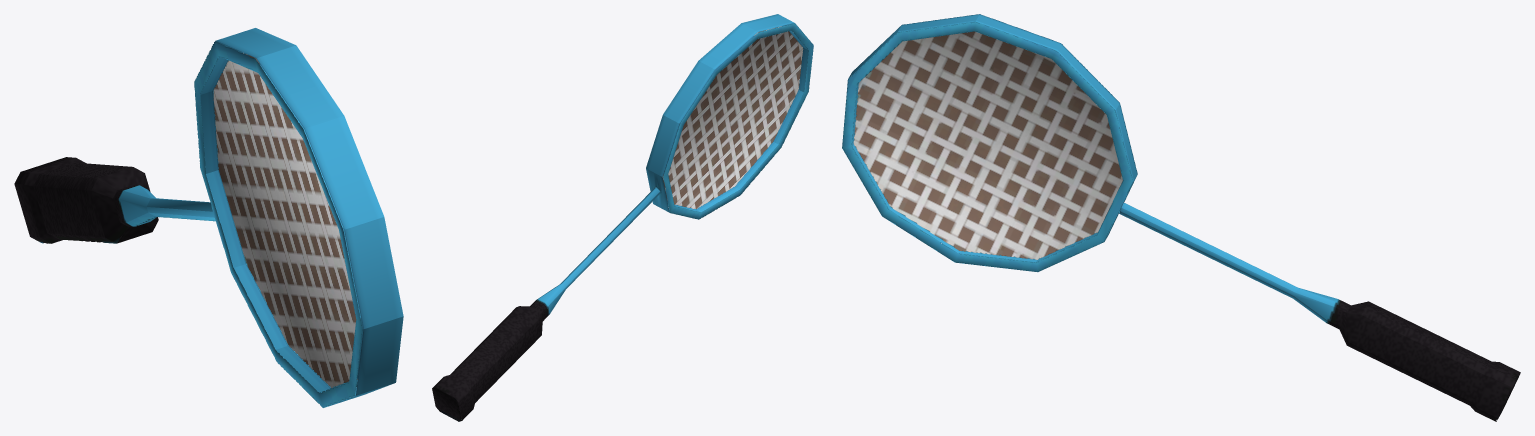
File: BadmintonRacketAnimated_Blue.fbx
3 views of the same model, side by side, from view 1: azimuth 30°, elevation 25°; view 2: azimuth 150°, elevation 25°; view 3: azimuth 270°, elevation 25° (orthographic). The views are drawn at different scales.
Parts seen in each view (by area): view 1: badminton racket; view 2: badminton racket; view 3: badminton racket.
Boxes of the visible parts, x1,y1,x2,y2 form: badminton racket: [14, 28, 403, 407]; badminton racket: [432, 14, 813, 421]; badminton racket: [842, 14, 1520, 421].
Size of the model in its own units: 39.37 by 79.14 by 142.
